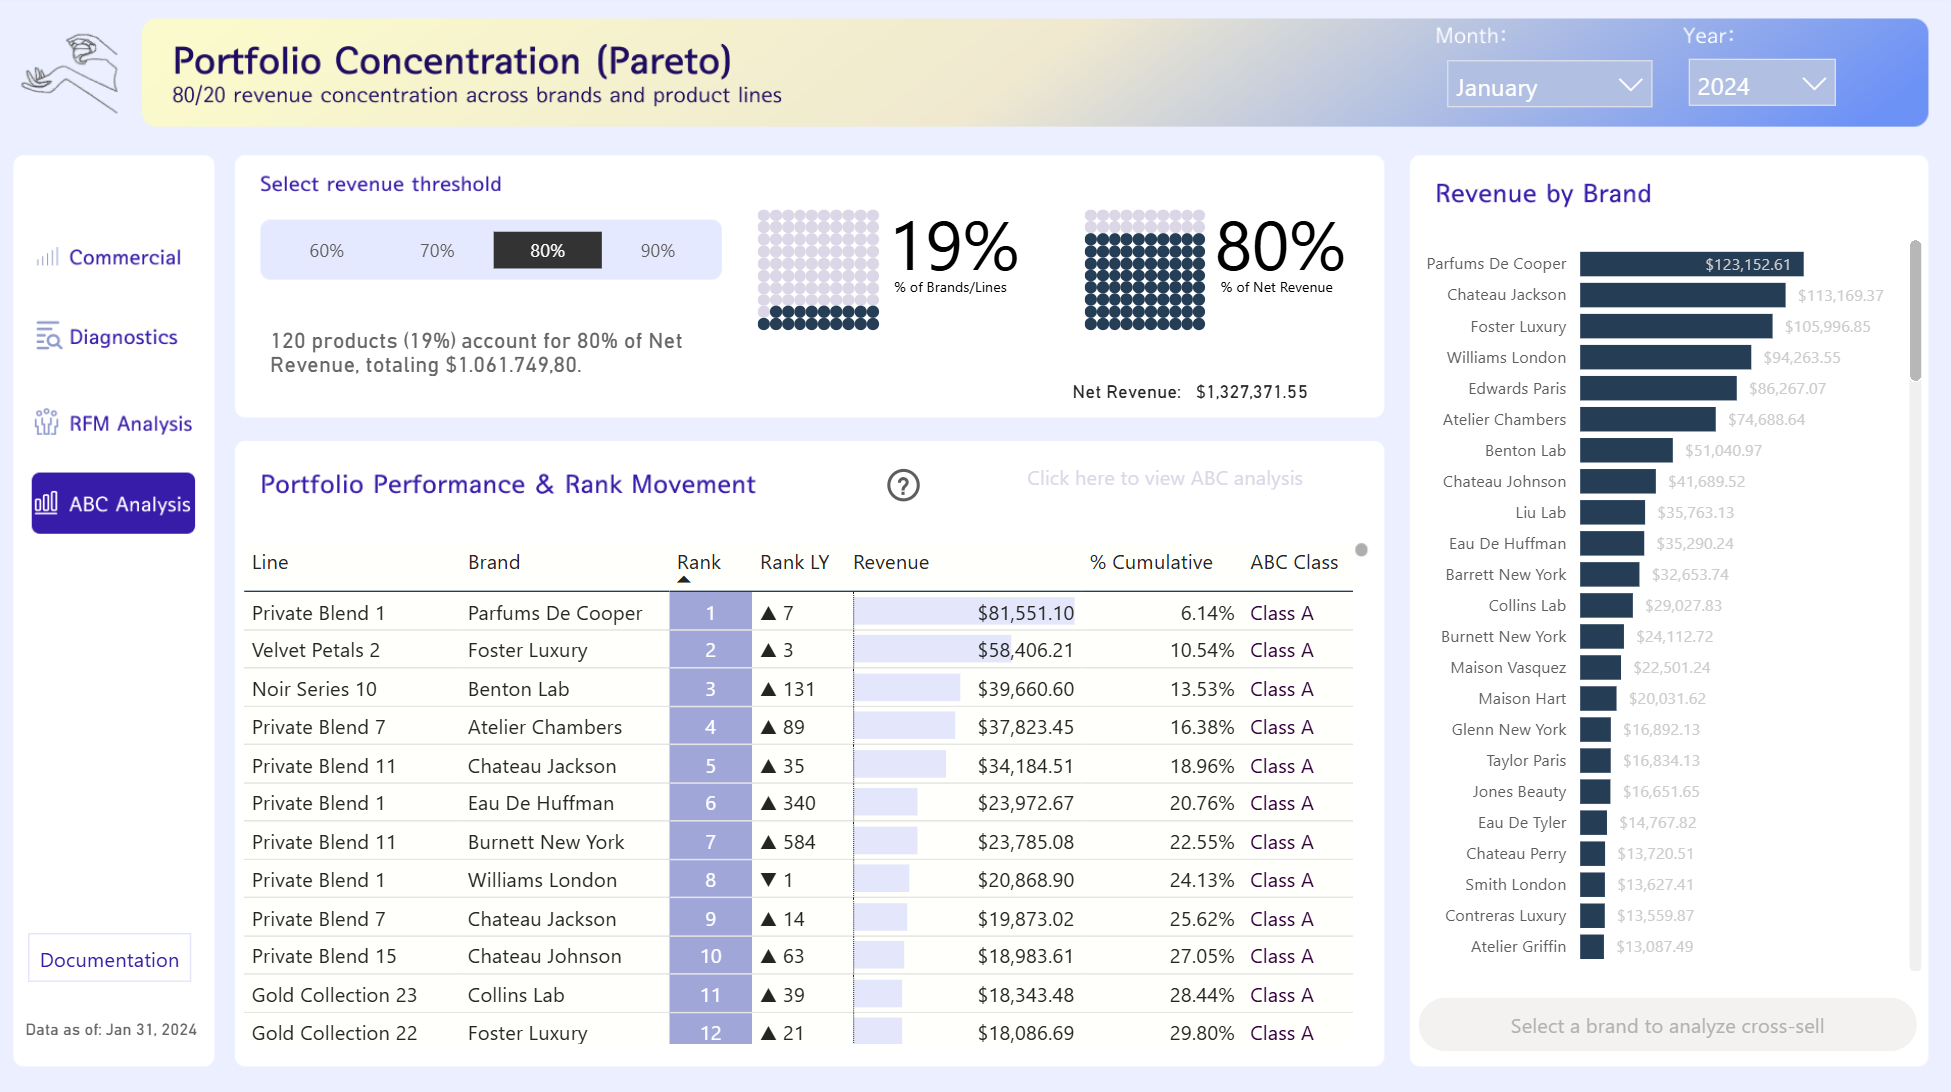

The page's visual inventory and layout, read from the dashboard file:
{"tool":"powerbi","page":{"name":"ABC","canvas":[1280,720],"ordinal":3},"visuals":[{"type":"slicer","fields":{"Values":["dim_calendar.Month"]},"box":[938.9,33.3,153.7,58.9],"z":0},{"type":"slicer","fields":{"Values":["dim_calendar.Year"]},"box":[1097.1,32.6,116,46.9],"z":1000},{"type":"slicer","fields":{"Values":["aux_pareto_parameter.Percentage"]},"box":[156.1,148.4,336.5,34.5],"z":2000},{"type":"enlightenWaffleChartC94C0BDE416B413A8071A92B5E75A718","title":"% of Products","fields":{"measure":["_Medidas.Dif Qtd Produtos 2","_Medidas.Qtd Produtos X%"],"group":["dim_calendar.Year"]},"box":[492.6,134.4,213.7,153.5],"z":3000},{"type":"enlightenWaffleChartC94C0BDE416B413A8071A92B5E75A718","title":"% of Revenue","fields":{"measure":["_Medidas.Dif Faturamento","_Medidas.Pareto Selecionado"],"group":["dim_calendar.Year"]},"box":[706.7,134.7,213.1,180.1],"z":4000},{"type":"tableEx","fields":{"Values":["dim_products.product_line","dim_products.brand","_Measures.Brand/Line Rank","_Measures.Rank Shift","_Medidas.Fat Liq Total","_Measures.% Cumulative Revenue1","_Measures.ABC Class1"]},"box":[157.1,352.7,745.4,337.6],"z":5000},{"type":"clusteredBarChart","fields":{"Category":["dim_products.brand"],"Y":["_Medidas.Fat Liq Total"]},"box":[915.1,147.1,348.2,496.5],"z":6000},{"type":"actionButton","box":[638.2,302.3,253.2,26.2],"z":7000},{"type":"actionButton","box":[21.6,156.8,115.6,28.4],"z":8000},{"type":"actionButton","box":[21.6,210.7,115.6,26.5],"z":9000},{"type":"actionButton","box":[21.6,264.6,115.6,30.4],"z":10000},{"type":"actionButton","box":[21.3,613.6,106.7,32],"z":11000},{"type":"actionButton","box":[930.4,655.4,325.8,35.2],"z":12000},{"type":"cardVisual","fields":{"Data":["_Medidas.Texto Pareto"]},"box":[162.9,180.7,325.8,99.9],"z":13000},{"type":"cardVisual","fields":{"Data":["_Measures.Net Revenue"]},"box":[687.1,230.8,188.1,48],"z":15000},{"type":"cardVisual","fields":{"Data":["_Measures.Net Revenue Text"]},"box":[686.6,237.7,107,36.1],"z":16000},{"type":"actionButton","box":[578.2,302.6,30.8,35.9],"z":17000},{"type":"cardVisual","fields":{"Data":["_Measures.Data Refresh Text"]},"box":[2.7,655.1,158.8,34.7],"z":21000}]}

Visuals, with their boxes in screenshot pixels (x1, y1, x2, y2), scaled from the page's 1280x720 canvas onto the 1951x1092 screenshot:
slicer - dim_calendar.Month: [1431, 51, 1665, 140]
slicer - dim_calendar.Year: [1672, 49, 1849, 121]
slicer - aux_pareto_parameter.Percentage: [238, 225, 751, 277]
"% of Products" enlightenWaffleChartC94C0BDE416B413A8071A92B5E75A718: [751, 204, 1077, 437]
"% of Revenue" enlightenWaffleChartC94C0BDE416B413A8071A92B5E75A718: [1077, 204, 1402, 477]
tableEx - dim_products.product_line x dim_products.brand: [239, 535, 1376, 1047]
clusteredBarChart - dim_products.brand x _Medidas.Fat Liq Total: [1395, 223, 1926, 976]
actionButton: [973, 458, 1359, 498]
actionButton: [33, 238, 209, 281]
actionButton: [33, 320, 209, 360]
actionButton: [33, 401, 209, 447]
actionButton: [32, 931, 195, 979]
actionButton: [1418, 994, 1915, 1047]
cardVisual - _Medidas.Texto Pareto: [248, 274, 745, 426]
cardVisual - _Measures.Net Revenue: [1047, 350, 1334, 423]
cardVisual - _Measures.Net Revenue Text: [1047, 361, 1210, 415]
actionButton: [881, 459, 928, 513]
cardVisual - _Measures.Data Refresh Text: [4, 994, 246, 1046]
